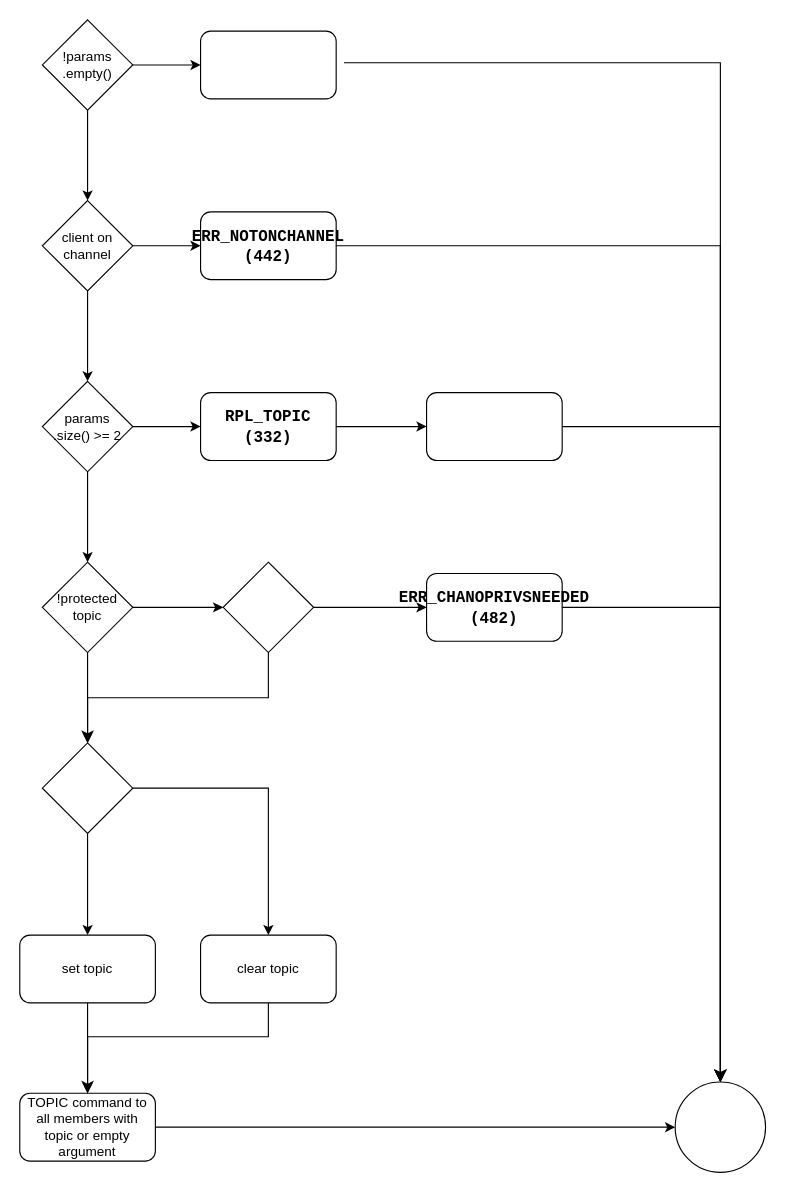
Some shapes in this 785 by 1192 pixel diagram are drawn without their labels. Each missing label, with the centre of its shape:
!topic "": point (87, 787)
END: point (720, 1126)
ERR_NEEDMOREPARAMS (461): point (267, 64)
isOperator: point (268, 607)
RPL_TOPICWHOTIME (333): point (493, 426)
